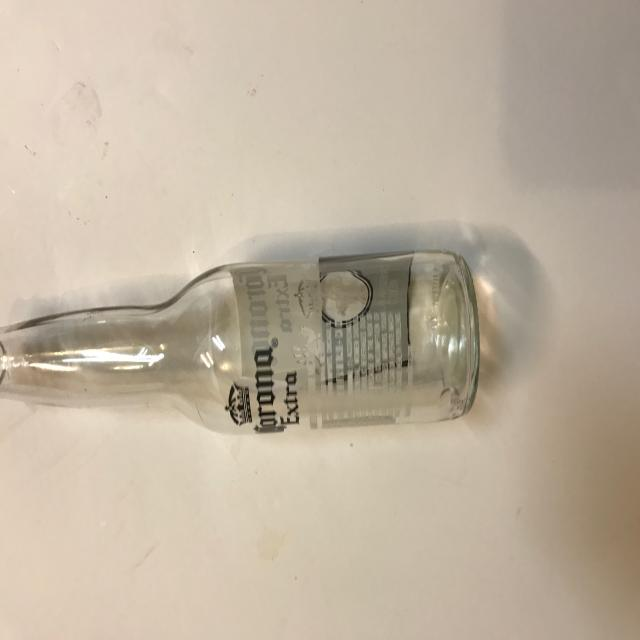glass: (1, 248, 480, 434)
